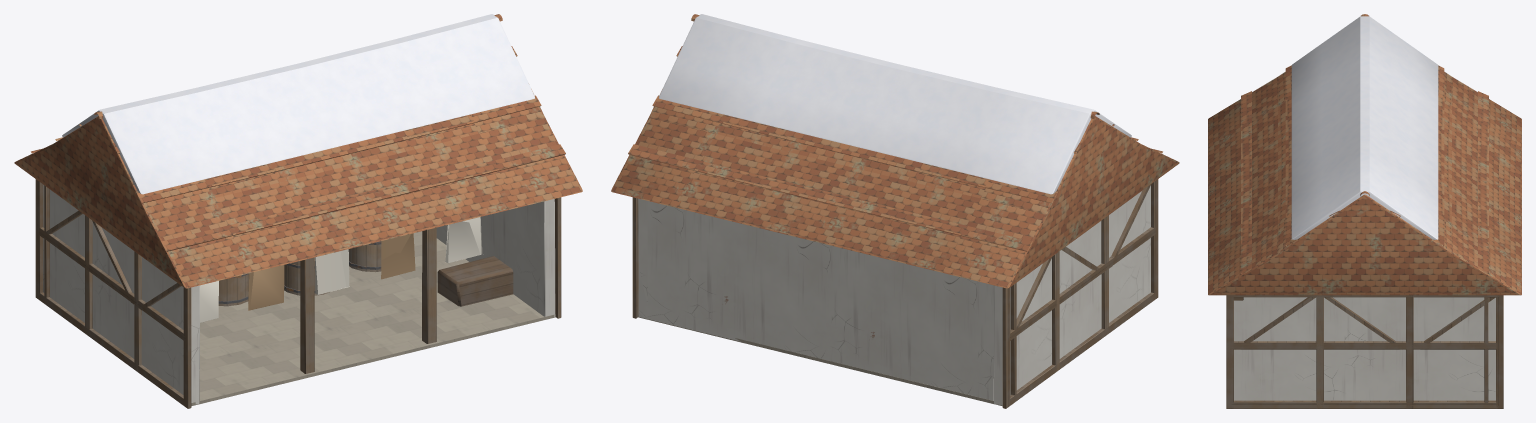
File: garb_workshop.glb
3 renders of one model, left to right at view 1: azimuth 30°, elevation 25°; view 2: azimuth 150°, elevation 25°; view 3: azimuth 270°, elevation 25°, orthographic. The views are drawn at different scales.
Parts seen in each view (by area): view 1: garb_workshop; view 2: garb_workshop; view 3: garb_workshop.
Boxes of the visible parts, left/top/right/bottom form: garb_workshop: left=14, top=14, right=582, bottom=408; garb_workshop: left=611, top=14, right=1179, bottom=408; garb_workshop: left=1208, top=14, right=1521, bottom=408.
Size of what is drawn, in the model's own units: 11.01 by 6.37 by 8.15.
Materials: 11 (8 with a texture image).
